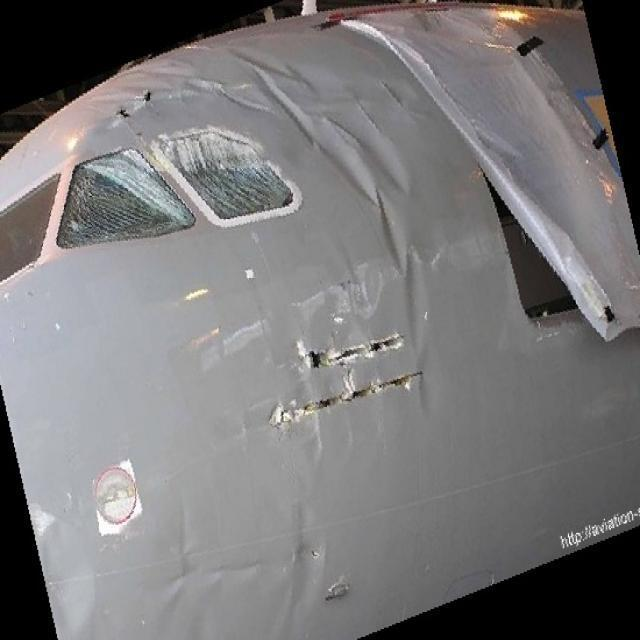crack: (259, 330, 433, 434)
